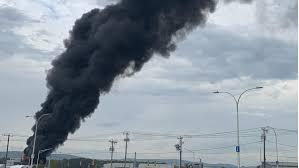smoke: (21, 2, 222, 163)
